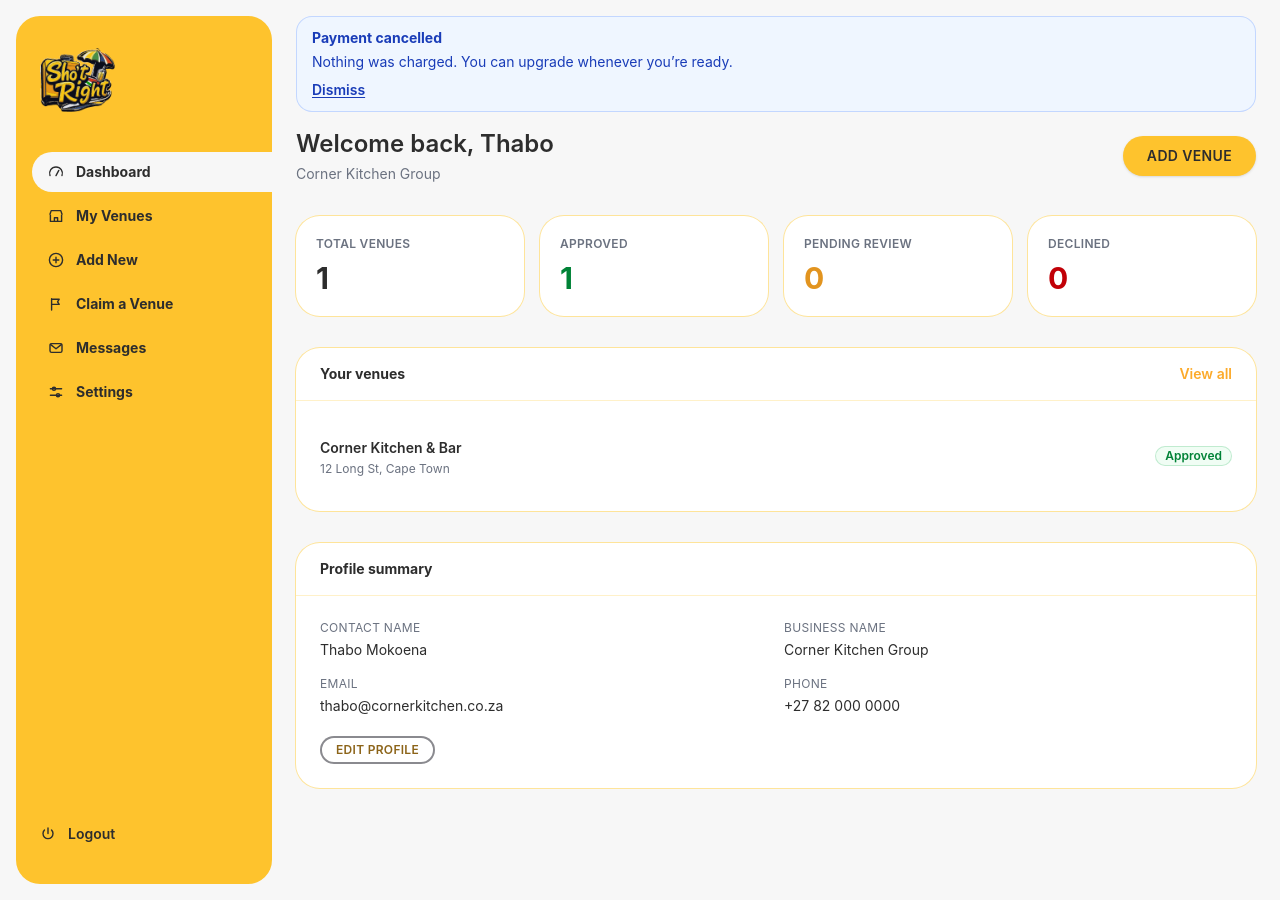
back from Payfast › removes the query string, so moving on does not replay the message
Expected: the text "Payment cancelled" is shown, x1=312 y1=29 x2=442 y2=46
Click the button "Dismiss" at (339, 90), box x1=312 y1=80 x2=365 y2=100
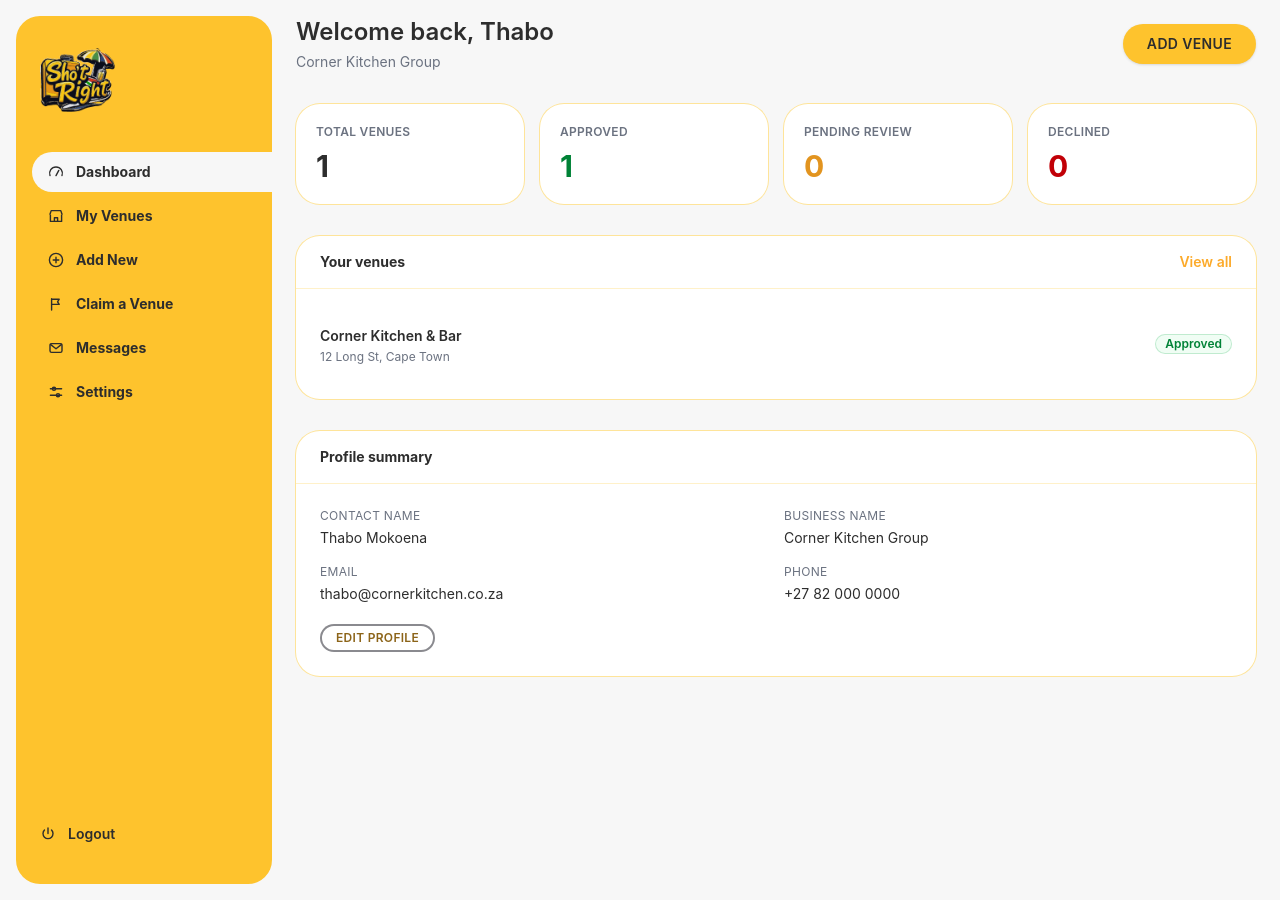
Click the link "My Venues" at (100, 216), box x1=48 y1=207 x2=152 y2=224
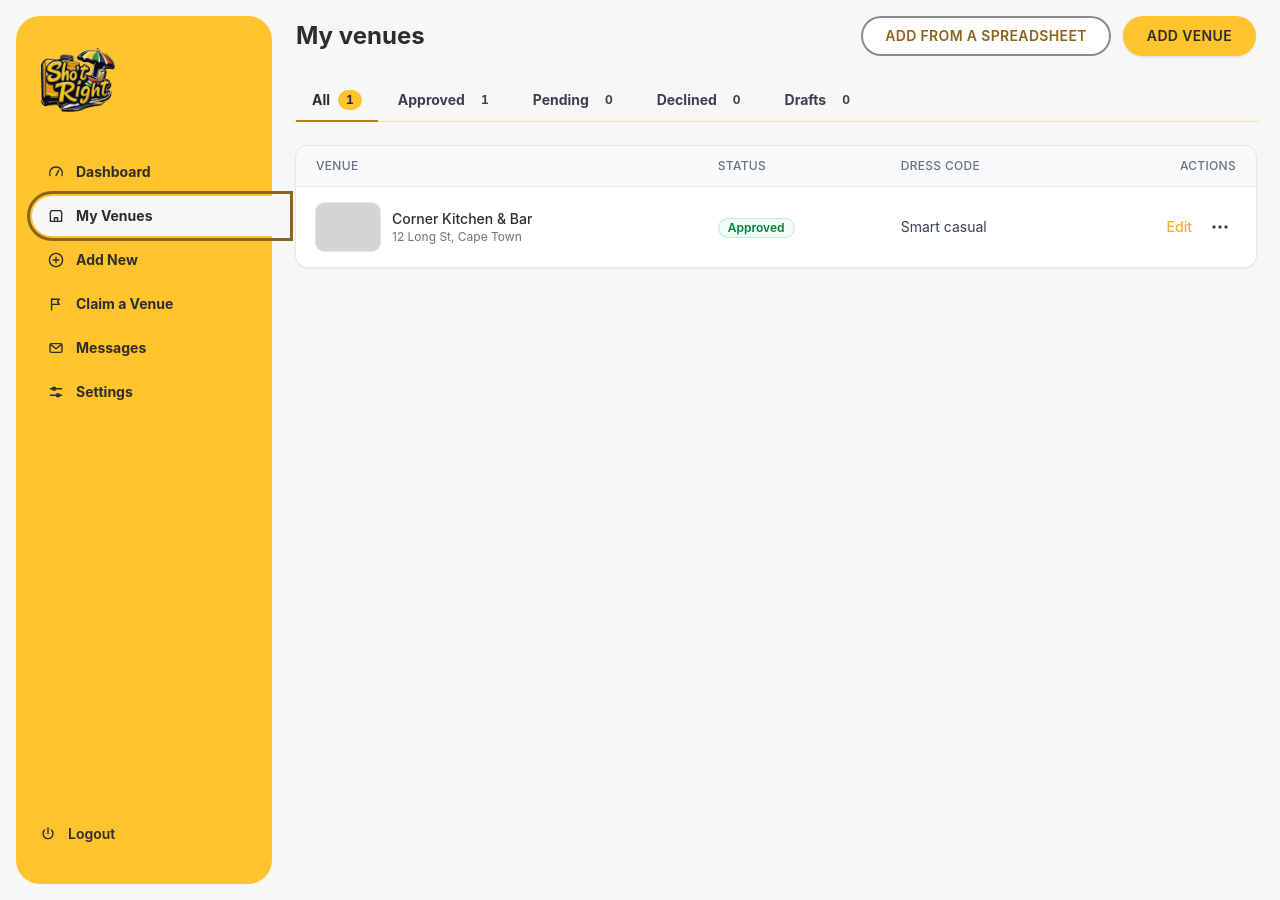
Click the link "Dashboard" at (99, 172), box x1=48 y1=163 x2=151 y2=180
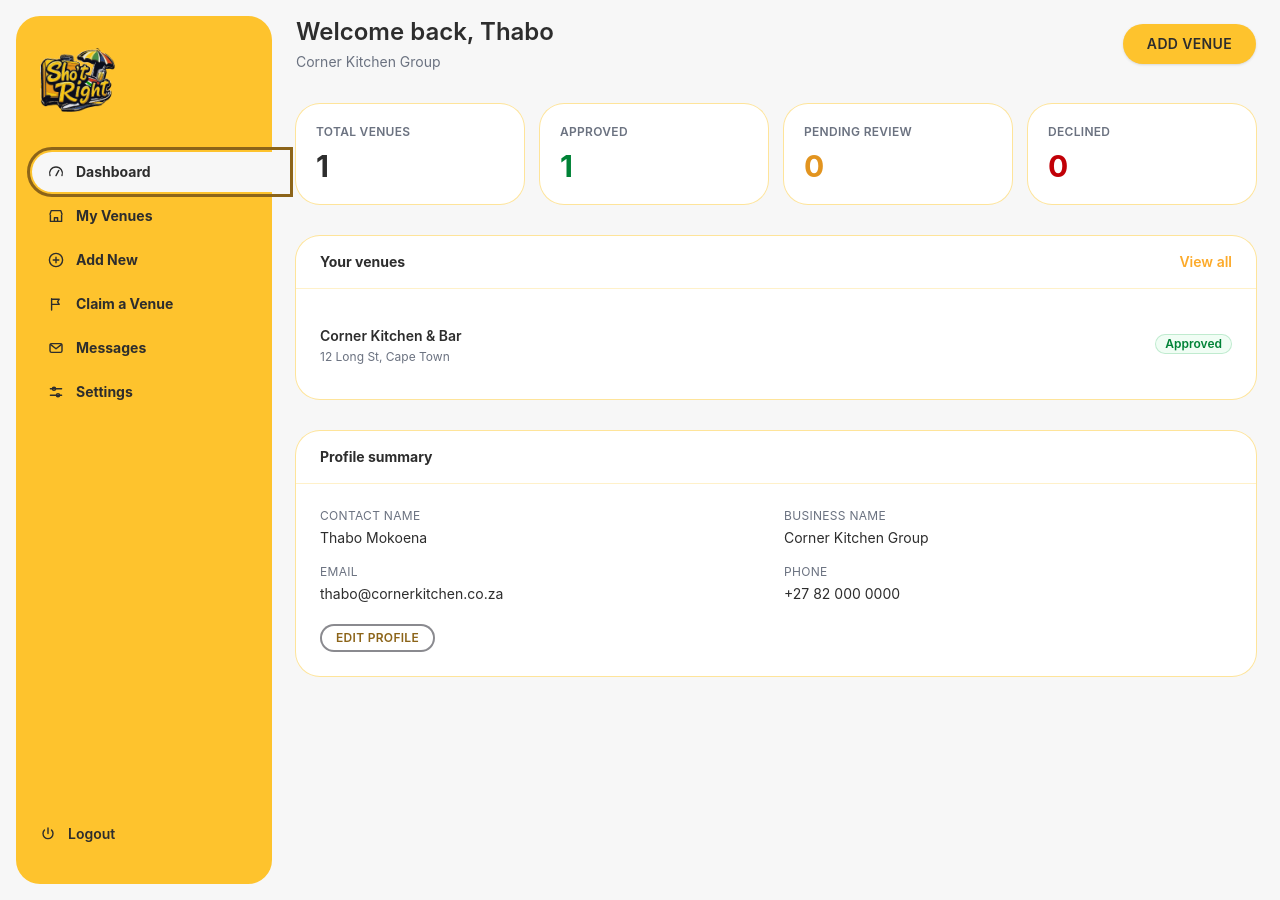
Expected: the text "Payment cancelled" is not shown
Result: the heading "Your venues" is shown at x1=320 y1=252 x2=405 y2=272
